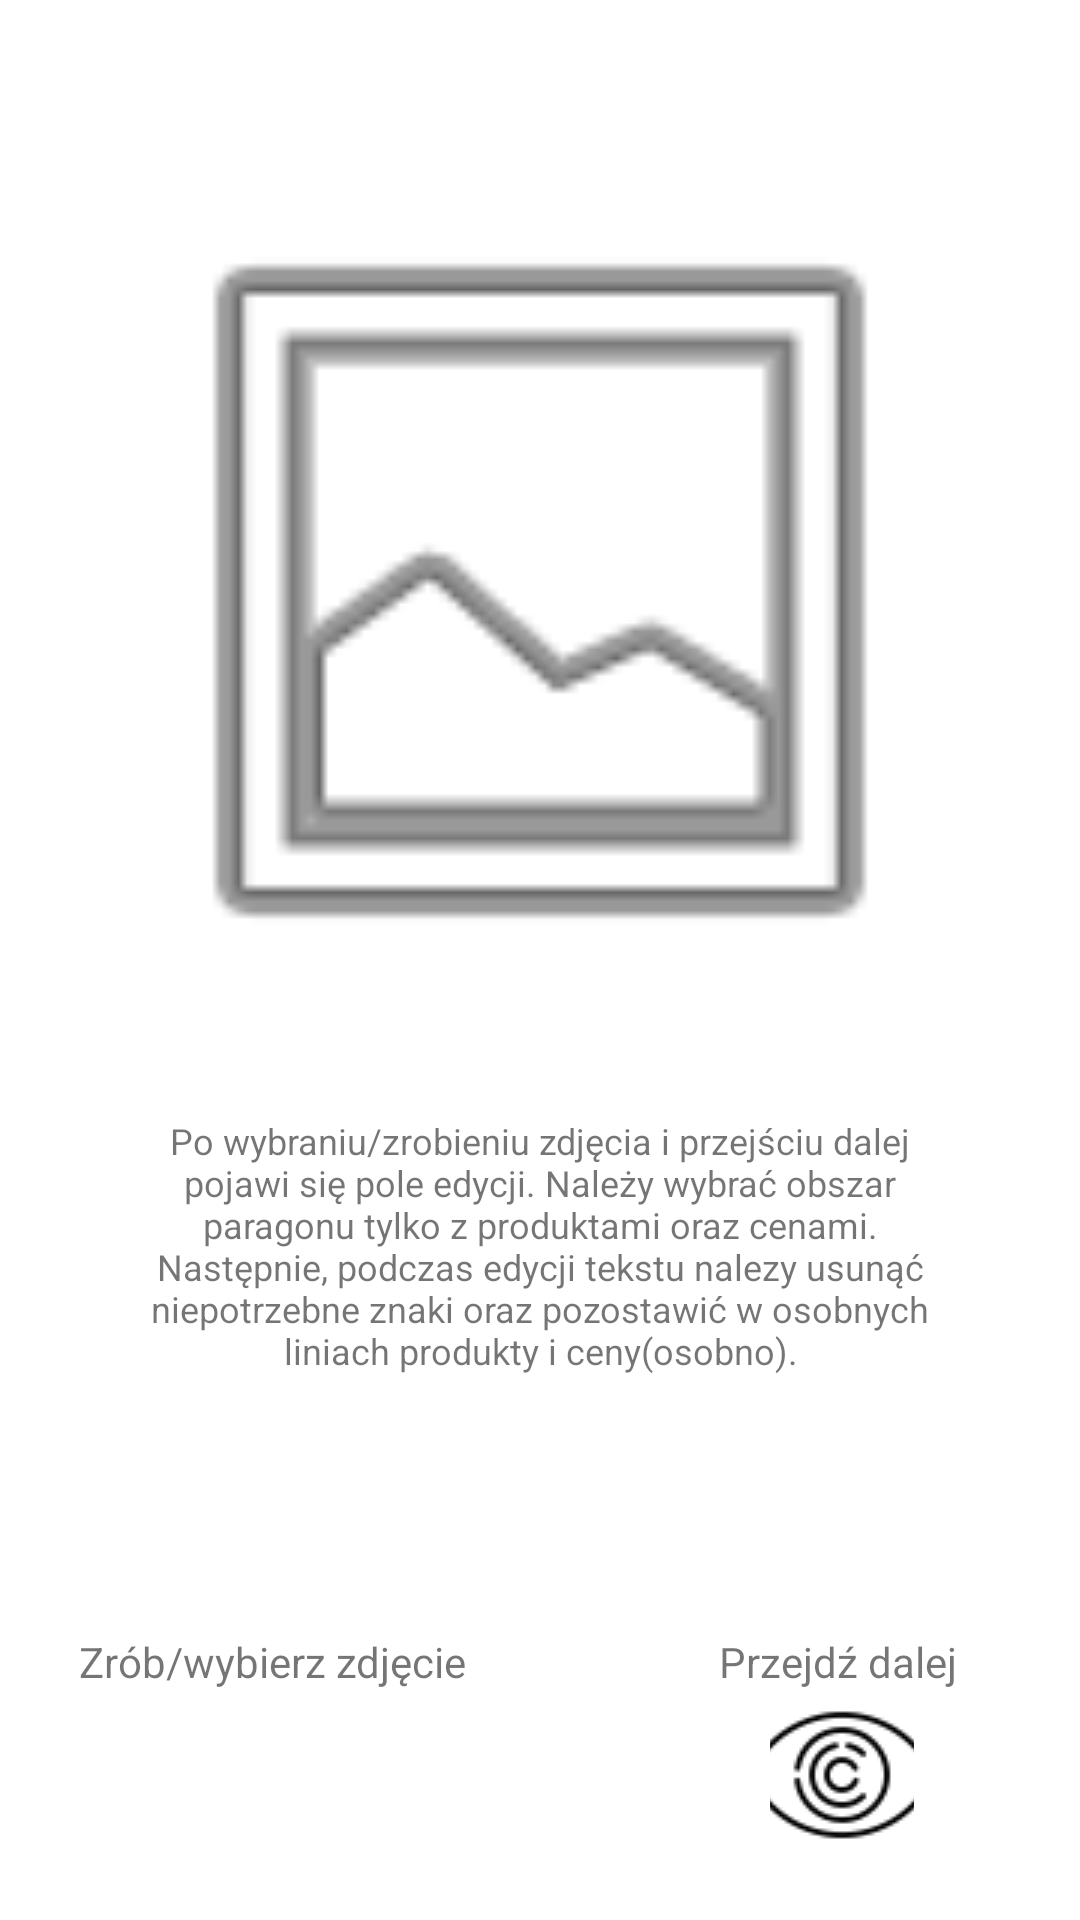

Where icons sit on this 1080 x 1920 app screen, as bbox=(x1, y1, x2, y2):
scan pic: bbox=(770, 1711, 914, 1839)
